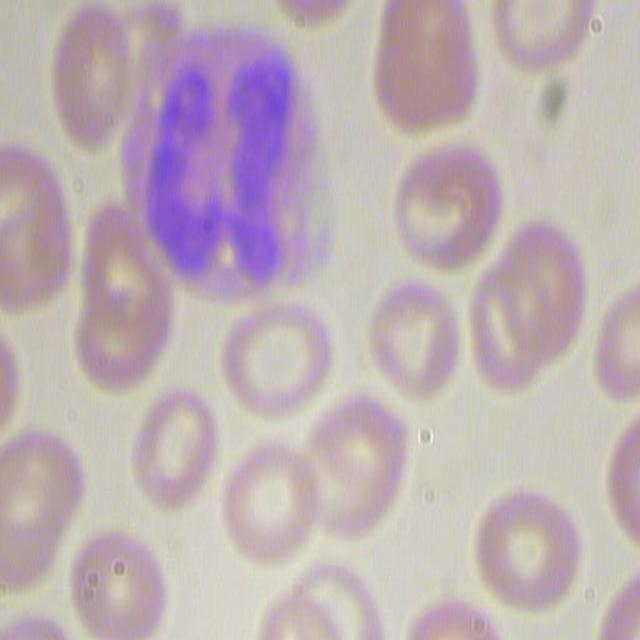RBC: (467, 217, 593, 391), (69, 210, 175, 403), (383, 128, 509, 285), (293, 393, 409, 544), (215, 292, 337, 429), (48, 0, 168, 134), (366, 2, 484, 137), (0, 135, 76, 338), (468, 487, 580, 622), (214, 432, 321, 568), (359, 264, 460, 408), (0, 418, 75, 596), (129, 385, 223, 513), (70, 532, 168, 638), (257, 563, 386, 640), (484, 0, 598, 76), (415, 580, 516, 640), (593, 282, 640, 403), (605, 400, 640, 554), (0, 323, 33, 419)
WBC: (120, 19, 360, 315)
